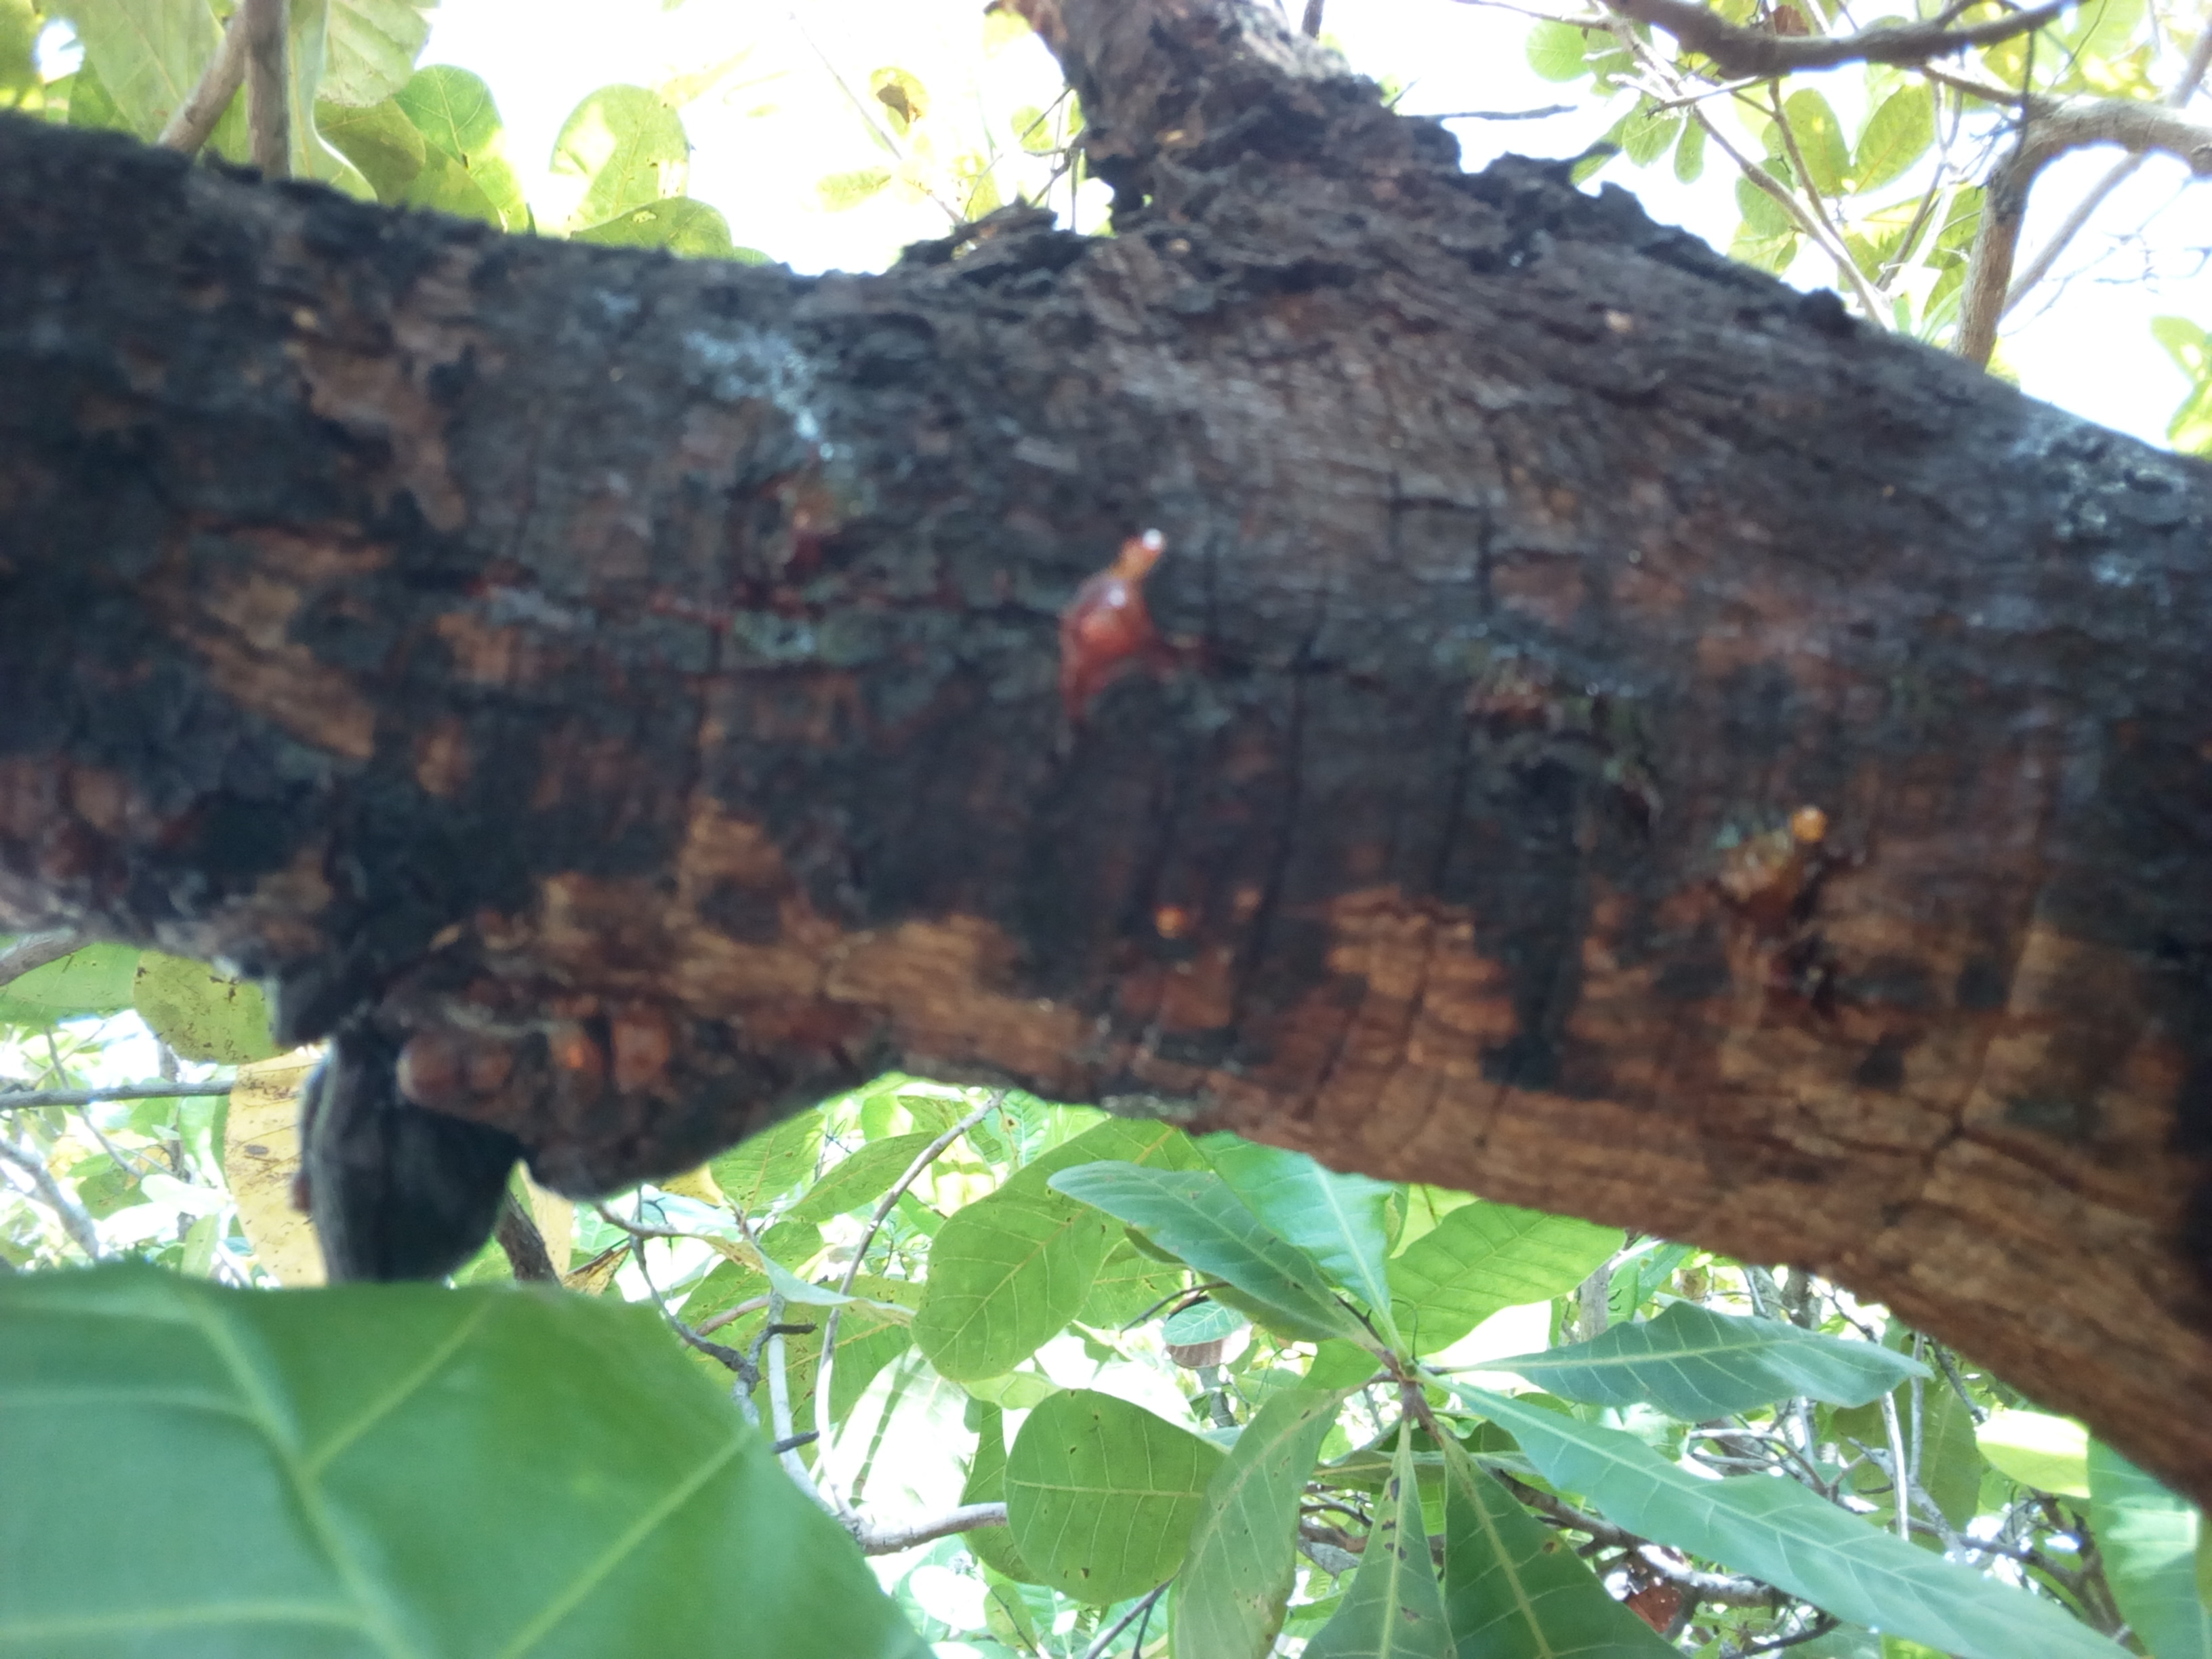Gommose: (31, 162, 923, 1061), (942, 504, 1698, 1042), (1743, 230, 2212, 967)
